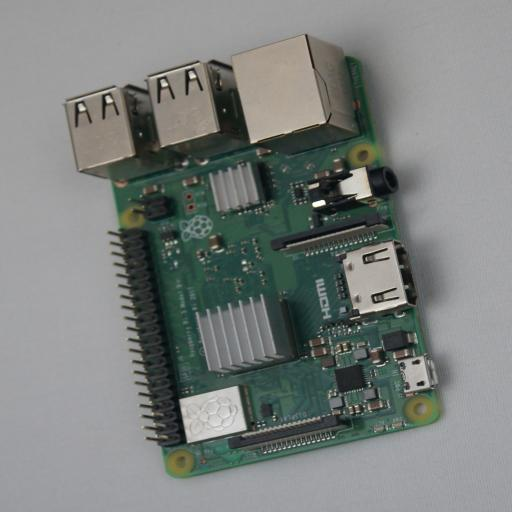Raspberry Pi 3 B-: (63, 34, 448, 478)
